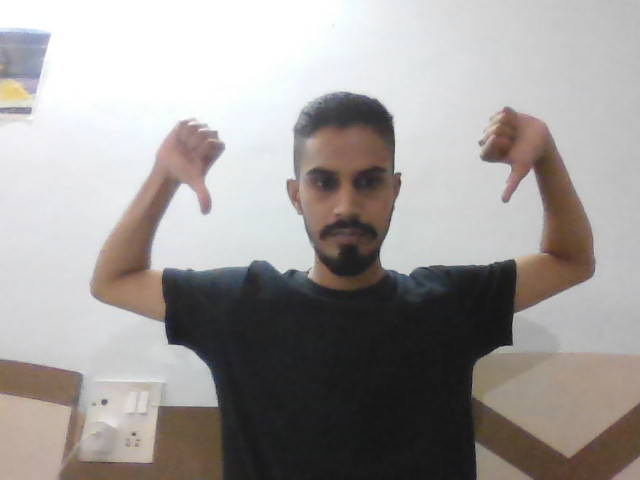ThumbsDown: (159, 109, 237, 221)
